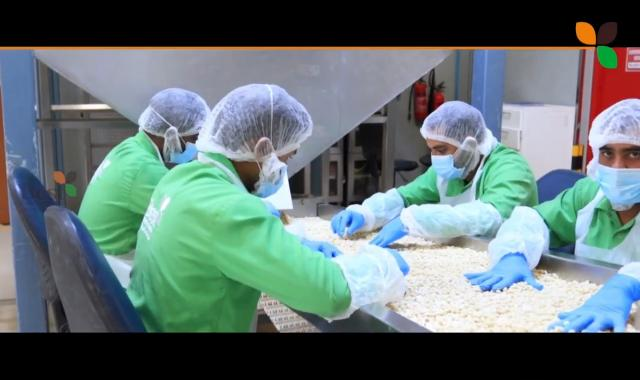hairnet: (205, 83, 317, 161), (137, 84, 210, 150), (422, 100, 496, 161), (577, 99, 640, 168)
